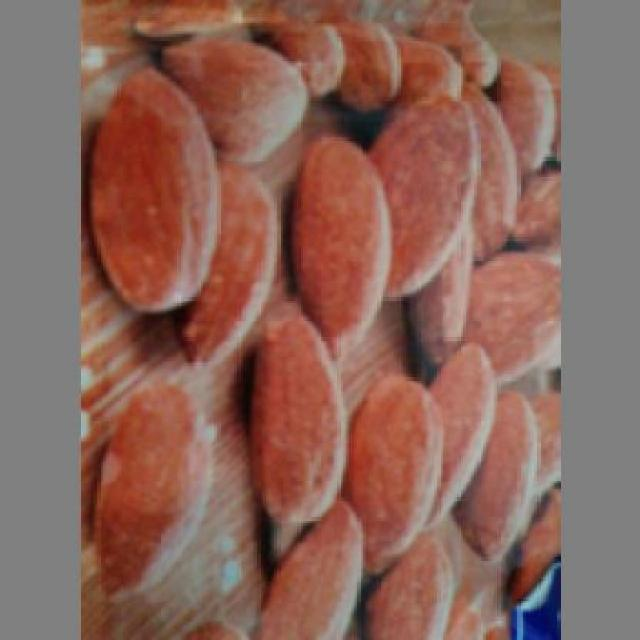Nuts: (80, 0, 557, 637)
